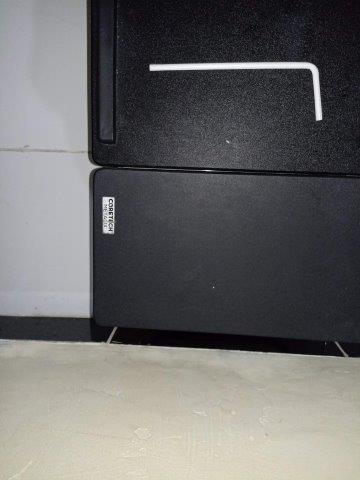sedotan: (150, 62, 322, 121)
